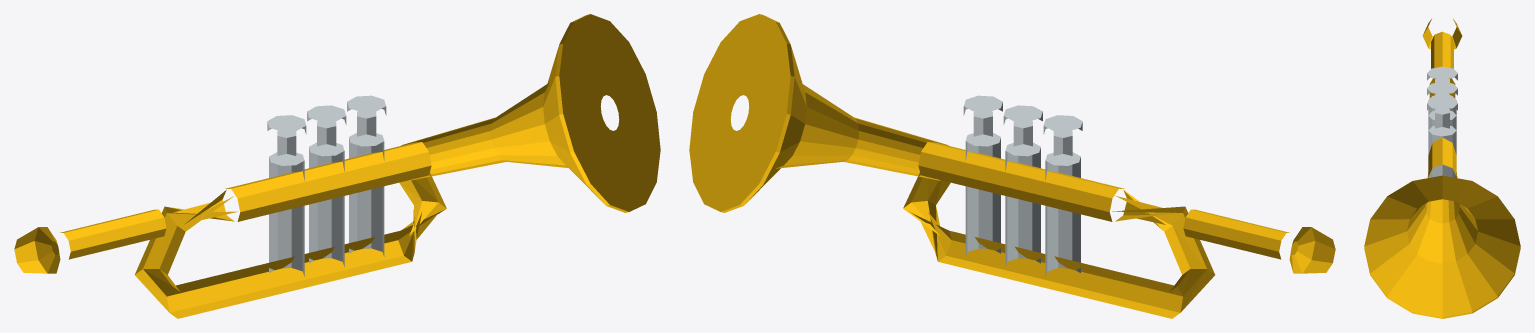
File: trumpet.glb
3 renders of one model, left to right at view 1: azimuth 30°, elevation 25°; view 2: azimuth 150°, elevation 25°; view 3: azimuth 270°, elevation 25°, orthographic. The views are drawn at different scales.
Visible parts, largest first — view 1: trumpet; view 2: trumpet; view 3: trumpet.
Part boxes in pixels (x1,y1,x2,y2): trumpet: (14,14,660,318); trumpet: (689,14,1335,318); trumpet: (1364,19,1520,318).
Size of the model in its own units: 0.735 by 0.2255 by 0.22.
